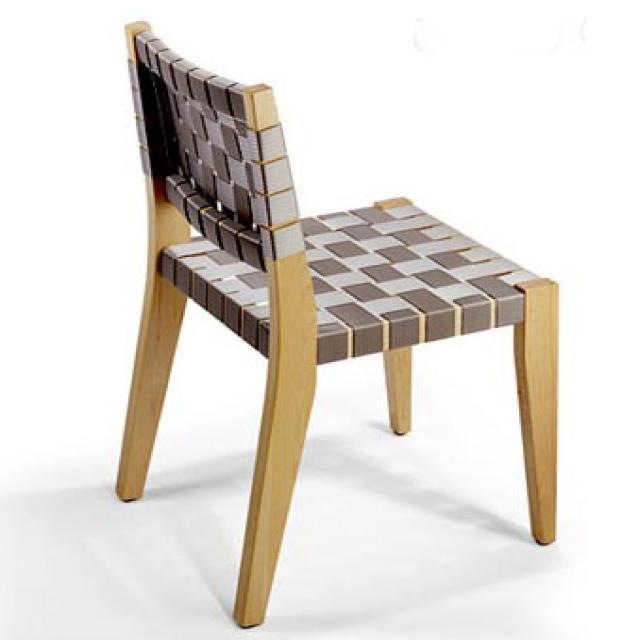chair: (113, 19, 561, 629)
